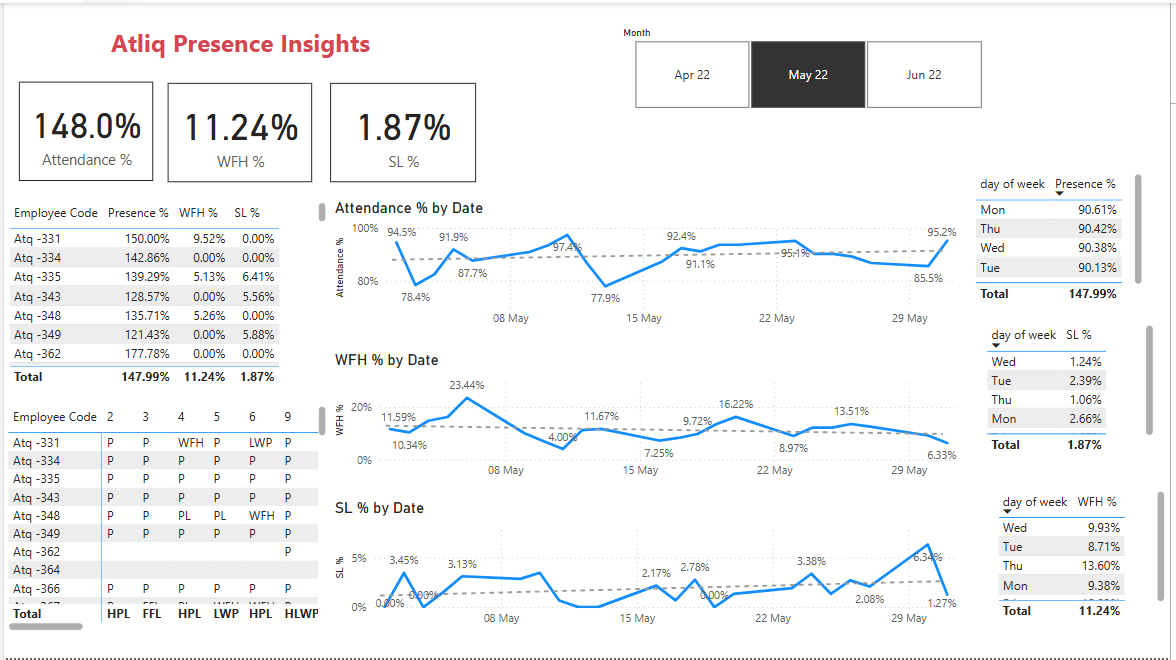

What the dashboard file says about the page in this screenshot:
{"tool":"powerbi","page":{"name":"Page 1","canvas":[1280,720],"ordinal":0},"visuals":[{"type":"card","fields":{"Values":["Measure Table.Attendance %"]},"box":[16.2,86.2,147.5,108.8],"z":0},{"type":"slicer","fields":{"Values":["Final Data.Month"]},"box":[666.2,21.2,430,101.2],"z":1000},{"type":"card","fields":{"Values":["Measure Table.WFH %"]},"box":[180,87.5,158.8,108.8],"z":2000},{"type":"card","fields":{"Values":["Measure Table.SL %"]},"box":[358.8,87.5,160,108.8],"z":3000},{"type":"textbox","box":[112.5,21.2,380,57.5],"z":5000},{"type":"tableEx","fields":{"Values":["Final Data.Employee Code","Measure Table.Presence %","Measure Table.WFH %","Measure Table.SL %"]},"box":[0,213.8,358.8,210],"z":6000},{"type":"pivotTable","fields":{"Rows":["Final Data.Employee Code"],"Values":["Min(Final Data.Value)"],"Columns":["Final Data.Date.Variation.Date Hierarchy.Day"]},"box":[0,437.5,358.8,256.2],"z":7000},{"type":"lineChart","fields":{"Category":["Final Data.Date"],"Y":["Measure Table.Attendace %"]},"box":[358.8,213.8,702.5,150],"z":8000},{"type":"lineChart","fields":{"Category":["Final Data.Date"],"Y":["Measure Table.WFH %"]},"box":[358.8,381.2,702.5,150],"z":9000},{"type":"lineChart","fields":{"Category":["Final Data.Date"],"Y":["Measure Table.SL %"]},"box":[358.8,543.8,702.5,150],"z":10000},{"type":"tableEx","fields":{"Values":["Final Data.day of week","Measure Table.Presence %"]},"box":[1061.2,182.5,193.8,150],"z":11000},{"type":"tableEx","fields":{"Values":["Final Data.day of week","Measure Table.SL %"]},"box":[1072.5,348.8,193.8,150],"z":12000},{"type":"tableEx","fields":{"Values":["Final Data.day of week","Measure Table.WFH %"]},"box":[1085,531.2,193.8,150],"z":13000}]}

Visuals, with their boxes in screenshot pixels (x1, y1, x2, y2), scaled from the page's 1280x720 canvas onto the 1176x660 screenshot:
card - Measure Table.Attendance %: 15, 79, 150, 179
slicer - Final Data.Month: 612, 19, 1007, 112
card - Measure Table.WFH %: 165, 80, 311, 180
card - Measure Table.SL %: 330, 80, 477, 180
textbox: 103, 19, 452, 72
tableEx - Final Data.Employee Code x Measure Table.Presence %: 0, 196, 330, 388
pivotTable - Final Data.Employee Code x Min(Final Data.Value): 0, 401, 330, 636
lineChart - Final Data.Date x Measure Table.Attendace %: 330, 196, 975, 333
lineChart - Final Data.Date x Measure Table.WFH %: 330, 349, 975, 487
lineChart - Final Data.Date x Measure Table.SL %: 330, 498, 975, 636
tableEx - Final Data.day of week x Measure Table.Presence %: 975, 167, 1153, 305
tableEx - Final Data.day of week x Measure Table.SL %: 985, 320, 1163, 457
tableEx - Final Data.day of week x Measure Table.WFH %: 997, 487, 1175, 624
